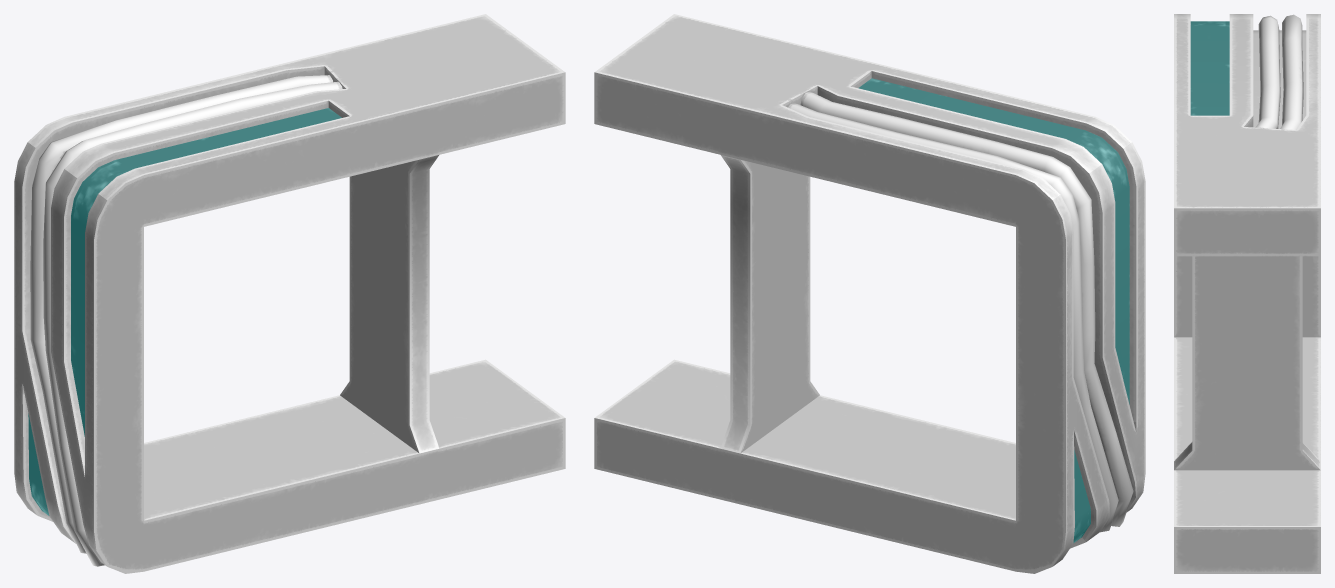
File: Pipe_Holder_Emissive.glb
3 renders of one model, left to right at view 1: azimuth 30°, elevation 25°; view 2: azimuth 150°, elevation 25°; view 3: azimuth 270°, elevation 25°, orthographic. The views are drawn at different scales.
Parts seen in each view (by area): view 1: pipe_holder.001; view 2: pipe_holder.001; view 3: pipe_holder.001.
Part boxes in pixels (box(x1,y1,x2,y2)): pipe_holder.001: box(14, 14, 565, 573); pipe_holder.001: box(594, 14, 1145, 573); pipe_holder.001: box(1174, 14, 1320, 573).
Size of what is drawn, in the model's own units: 0.9103 by 0.7335 by 0.2649.
Materials: 1 (1 with a texture image).
